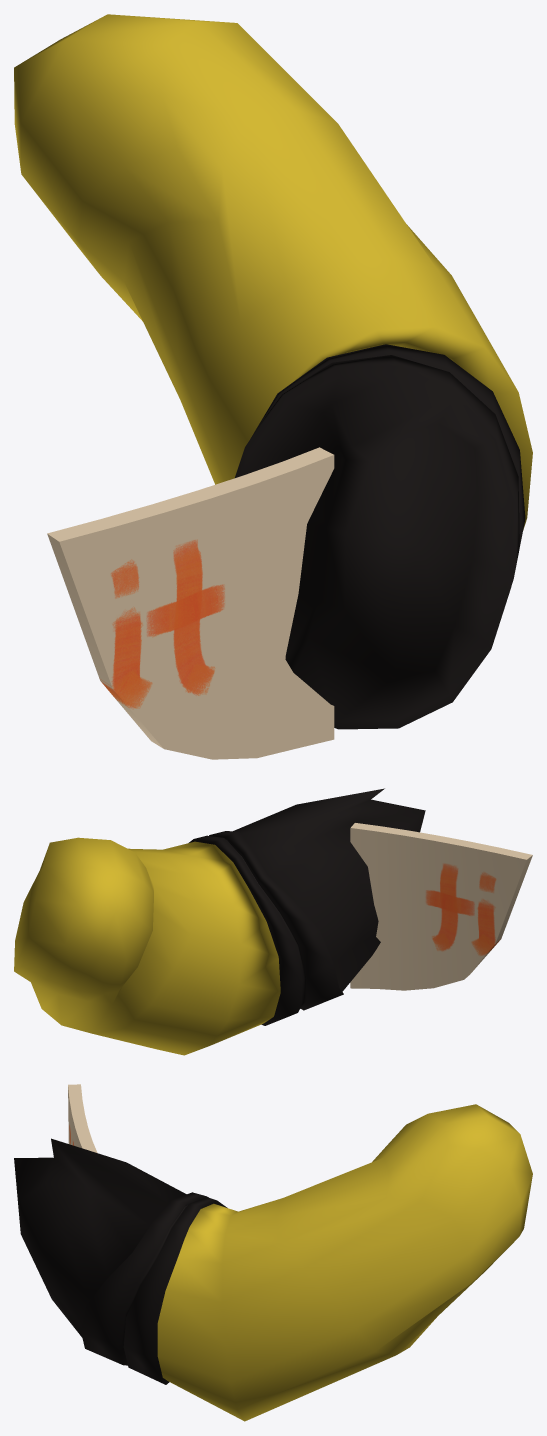
Rendered from toy_monster_arm6.fbx.
3 renders of one model, top to bottom at view 1: azimuth 30°, elevation 25°; view 2: azimuth 150°, elevation 25°; view 3: azimuth 270°, elevation 25°, orthographic. The views are drawn at different scales.
Visible parts, largest first — view 1: armboard, board it; view 2: armboard, board it; view 3: armboard, board it.
Boxes of the visible parts, bbox=[...] form: armboard: bbox=[14, 14, 532, 729]; board it: bbox=[47, 447, 334, 759]; armboard: bbox=[14, 788, 425, 1055]; board it: bbox=[350, 823, 532, 990]; armboard: bbox=[14, 1104, 532, 1421]; board it: bbox=[68, 1084, 97, 1152].
Bounding box in the file's own units: 140 × 108 × 179.
3 materials, 1 textured.
